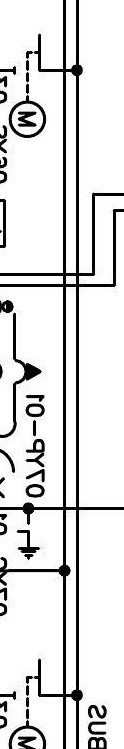115_1way_ds_w_motor: (7, 33, 46, 140)
115_gs: (16, 520, 41, 561)
